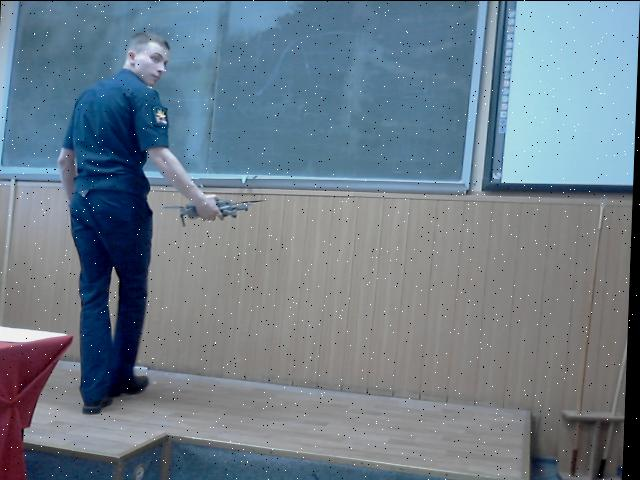drone: (162, 182, 274, 226)
